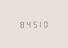eight: (18, 20, 23, 28)
five: (30, 20, 35, 27)
four: (24, 20, 29, 28)
one: (36, 19, 41, 27)
zero: (42, 19, 47, 27)
